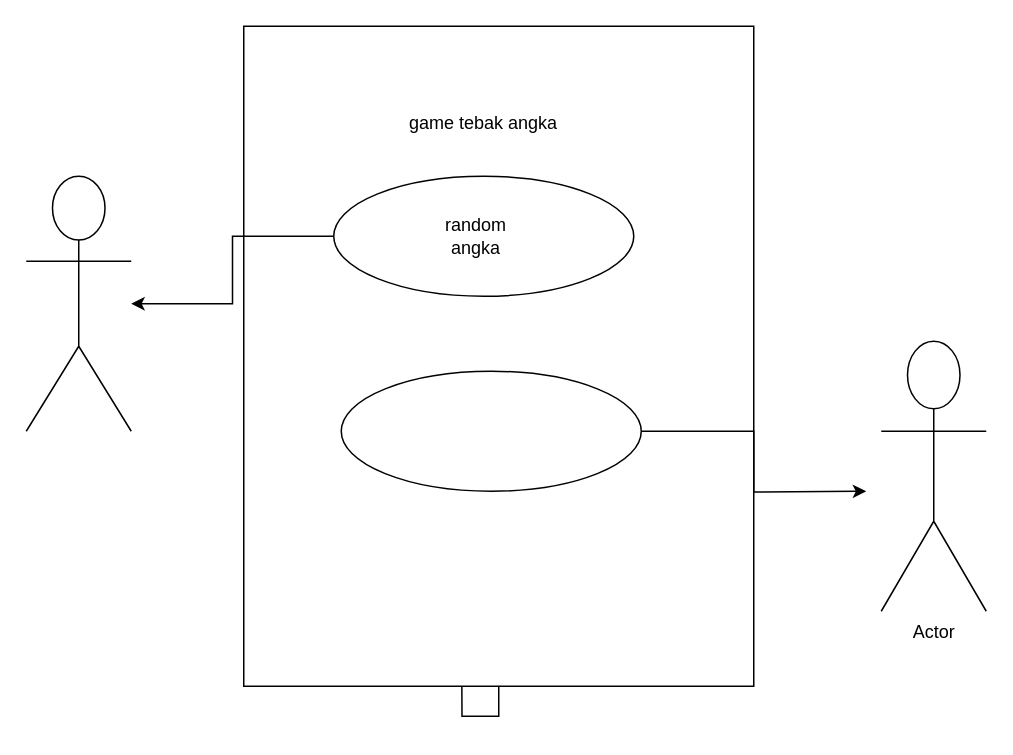
Some shapes in this 1013 by 755 pixel diagram are drawn without their labels. The shapes that lost their labels are listed below. From the top down, each one's box as (x1, y1, x2, y2) in pixels, then its label:
(25, 175, 131, 431): KOMPUTER
(340, 370, 641, 491): tebak angka
